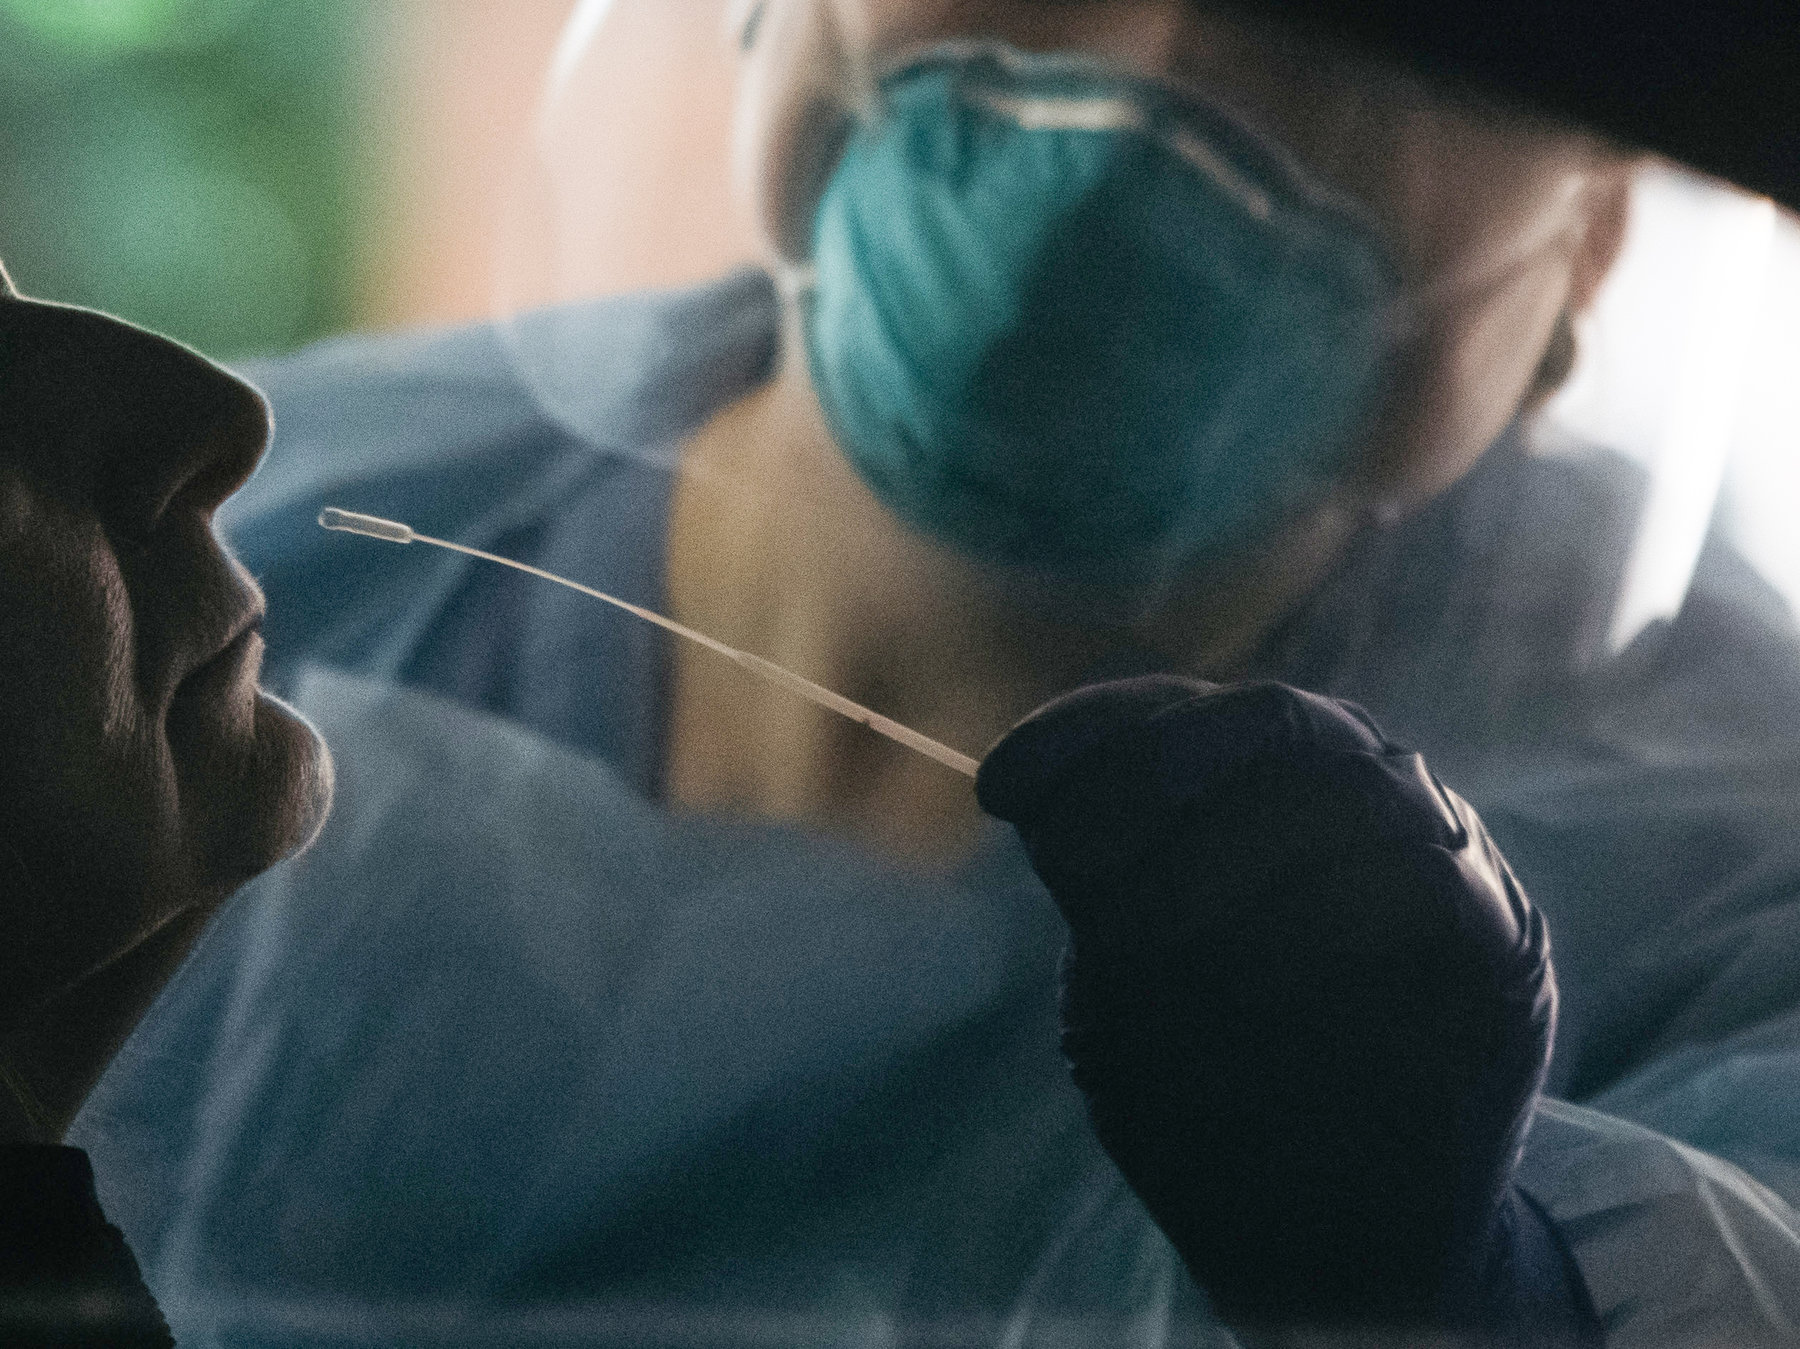Gloves: (966, 642, 1578, 1340)
with_mask: (774, 1, 1455, 591)
without_mask: (1, 225, 344, 933)
